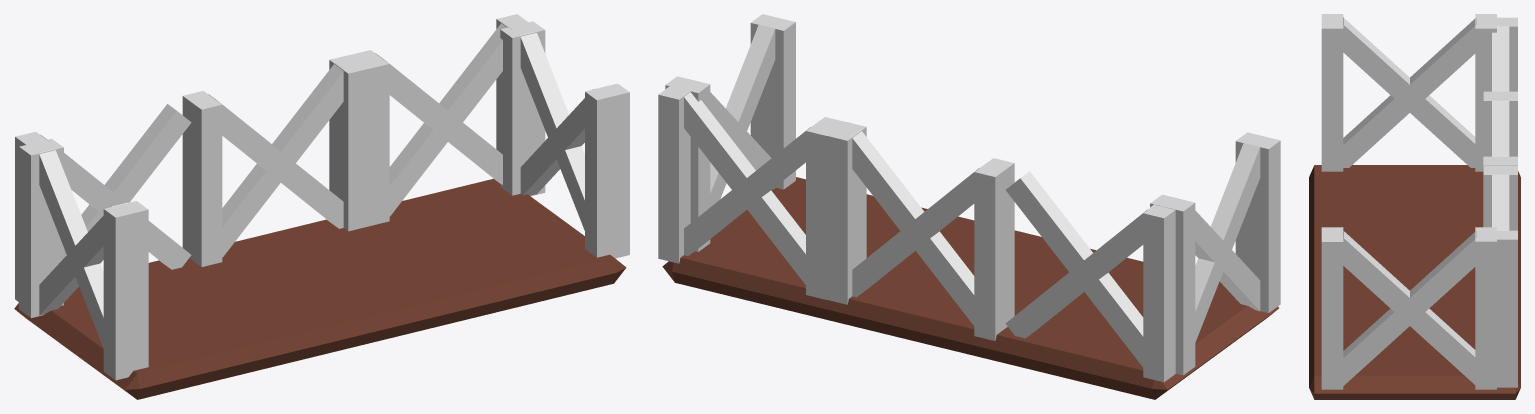
The model's file is Wall09.fbx.
3 renders of one model, left to right at view 1: azimuth 30°, elevation 25°; view 2: azimuth 150°, elevation 25°; view 3: azimuth 270°, elevation 25°, orthographic. The views are drawn at different scales.
Parts seen in each view (by area): view 1: Cube.009; view 2: Cube.009; view 3: Cube.009.
Part boxes in pixels (box(x1,y1,x2,y2)): Cube.009: box(14, 14, 629, 399); Cube.009: box(658, 14, 1280, 399); Cube.009: box(1309, 14, 1520, 399).
Bounding box in the file's own units: 205 × 70.15 × 80.5.
